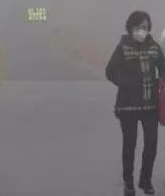person: (105, 9, 164, 195)
